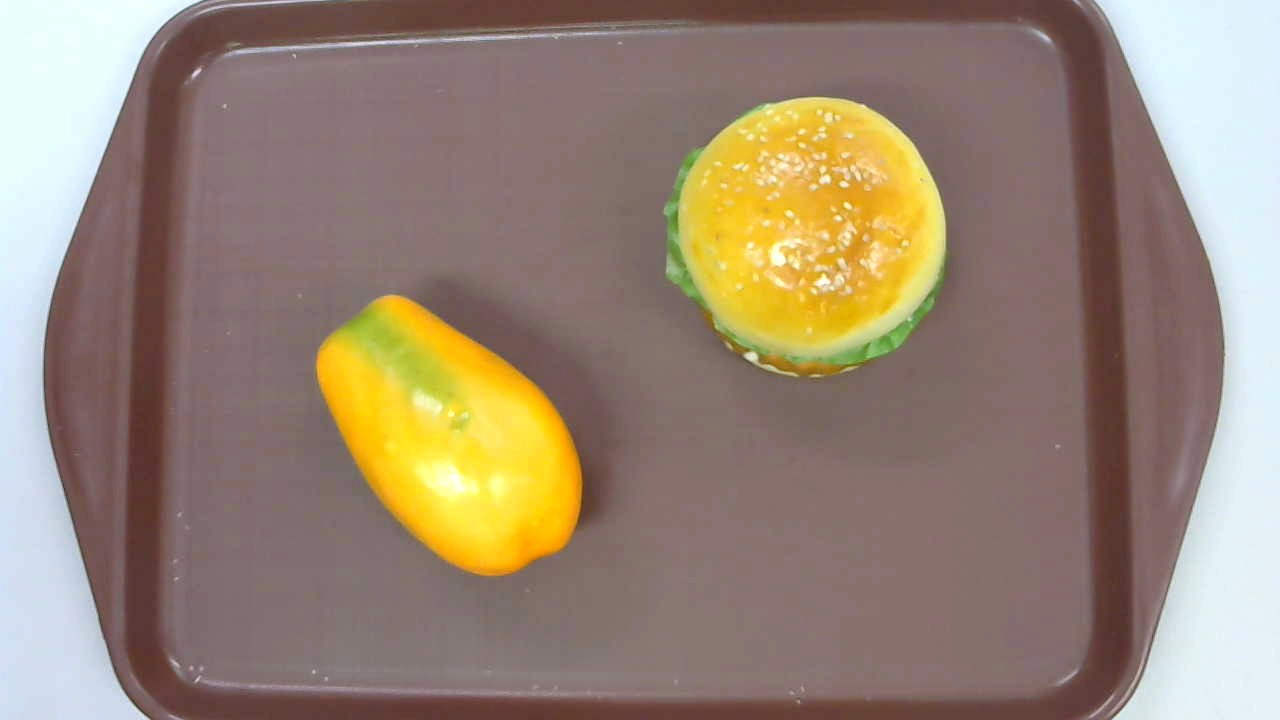hamburger: (662, 96, 947, 380)
papya: (315, 294, 584, 578)
